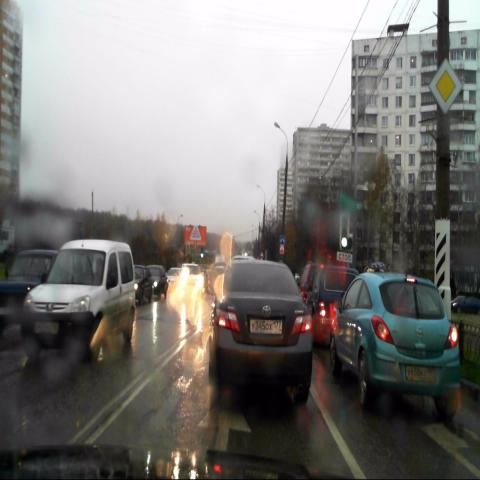2_1: (430, 58, 462, 114)
6_16: (336, 251, 352, 263)
